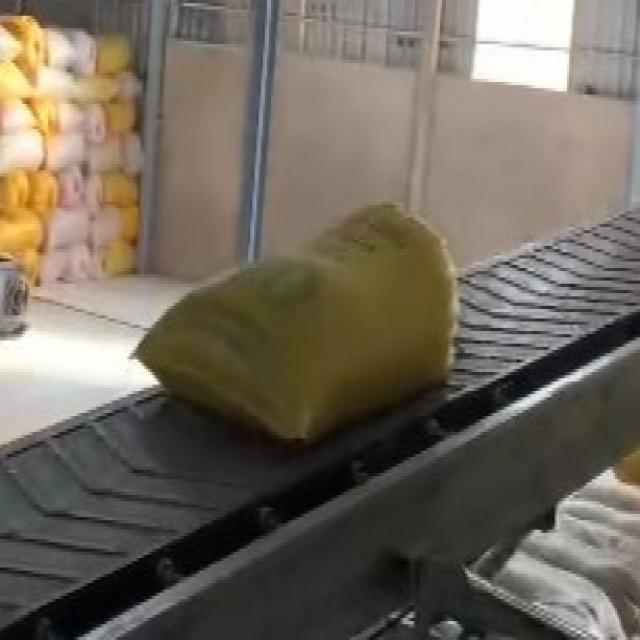gunny_bag: (136, 205, 459, 443)
